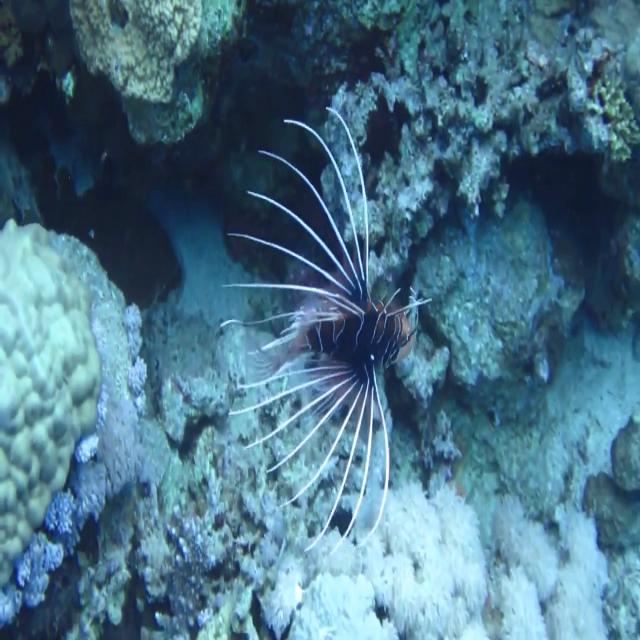Aslan Baligi: (219, 104, 433, 556)
